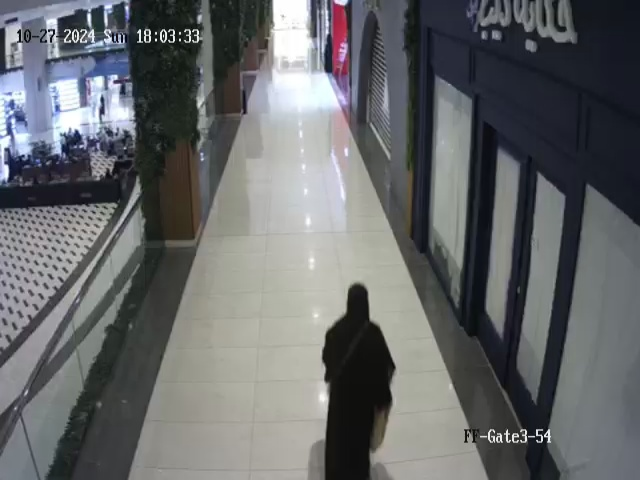female: (321, 283, 396, 480)
